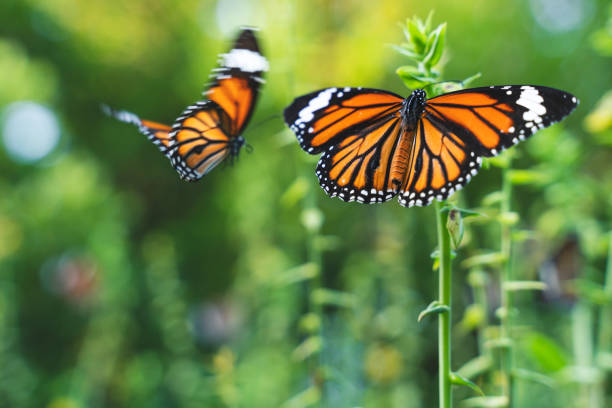Butterfly: (279, 84, 582, 208), (99, 23, 270, 184)
